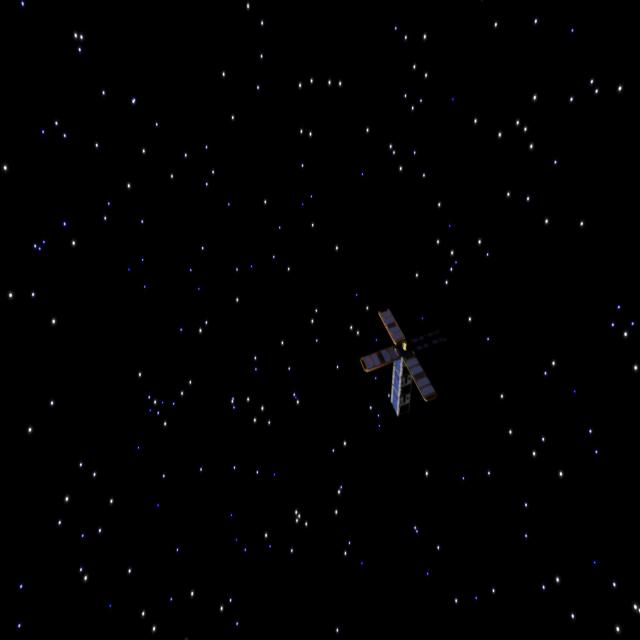medium_debris: (359, 302, 437, 425)
